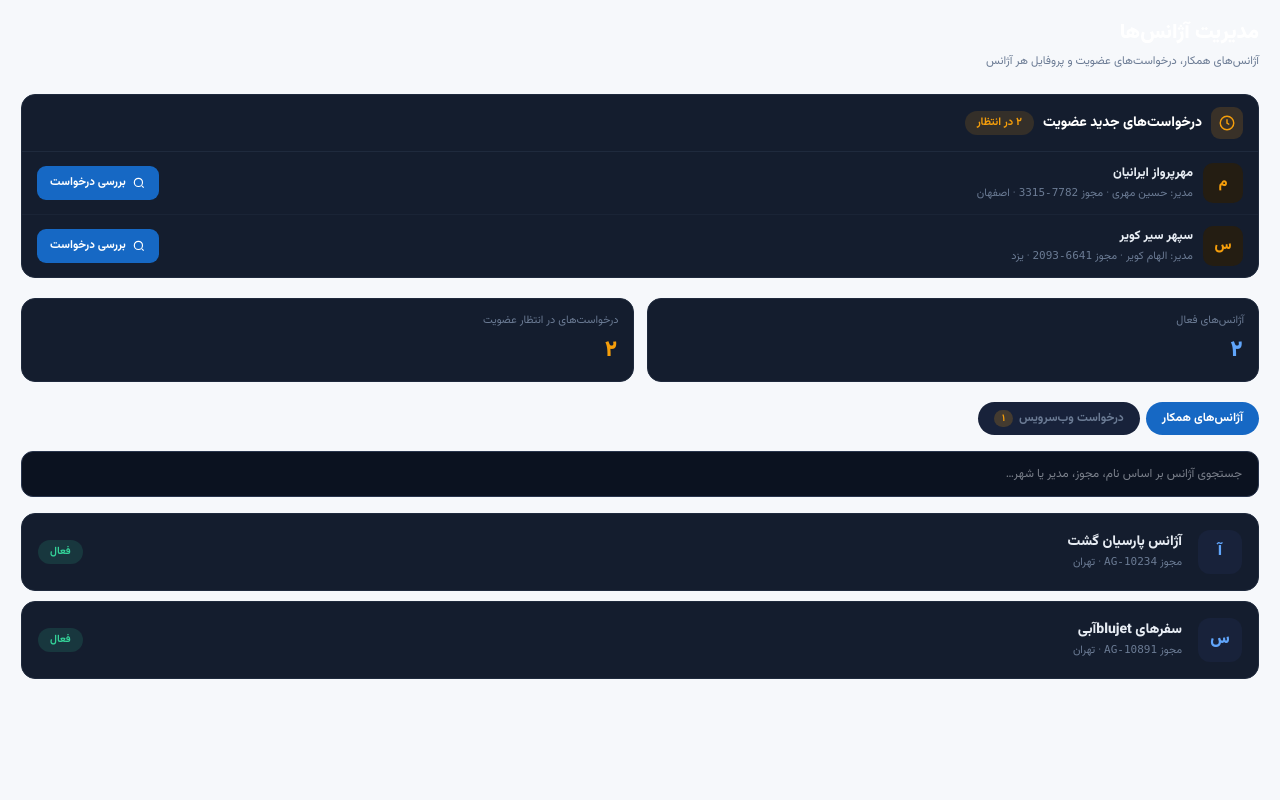
Scenario: SiteAdminAgenciesPage › renders membership requests, KPIs, partner list and webservice tab
This screenshot has width=1280, height=800.
Expected: the text "مهرپرواز ایرانیان" is shown, [1113,163,1193,183]
Expected: the heading "درخواست‌های جدید عضویت" is shown, [1043,113,1202,133]
Click the button "درخواست وب‌سرویس ۱" at (1059, 418), box [978,402,1140,435]
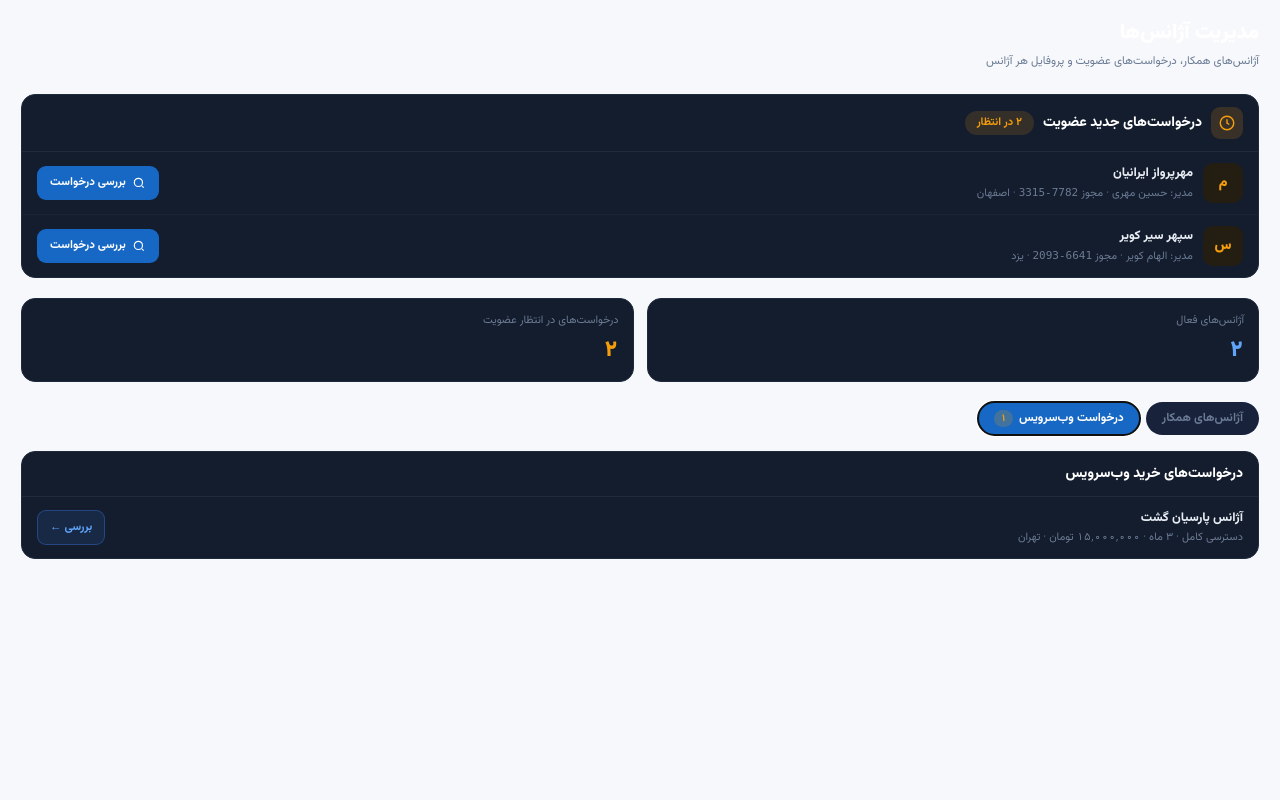
Result: the text "درخواست‌های خرید وب‌سرویس" is shown at [22,452,1258,497]
Result: the text "دسترسی کامل · ۳ ماه · ۱۵٬۰۰۰٬۰۰۰ تومان · تهران" is shown at [1018,530,1243,546]
